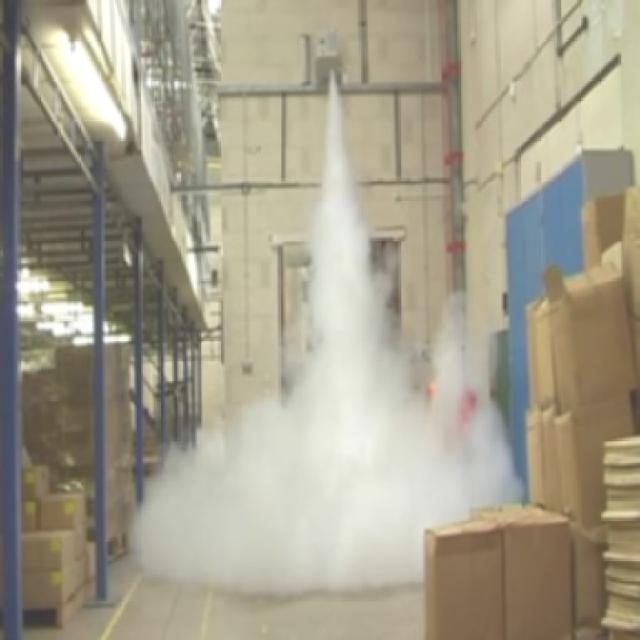smoke: (164, 64, 488, 588)
